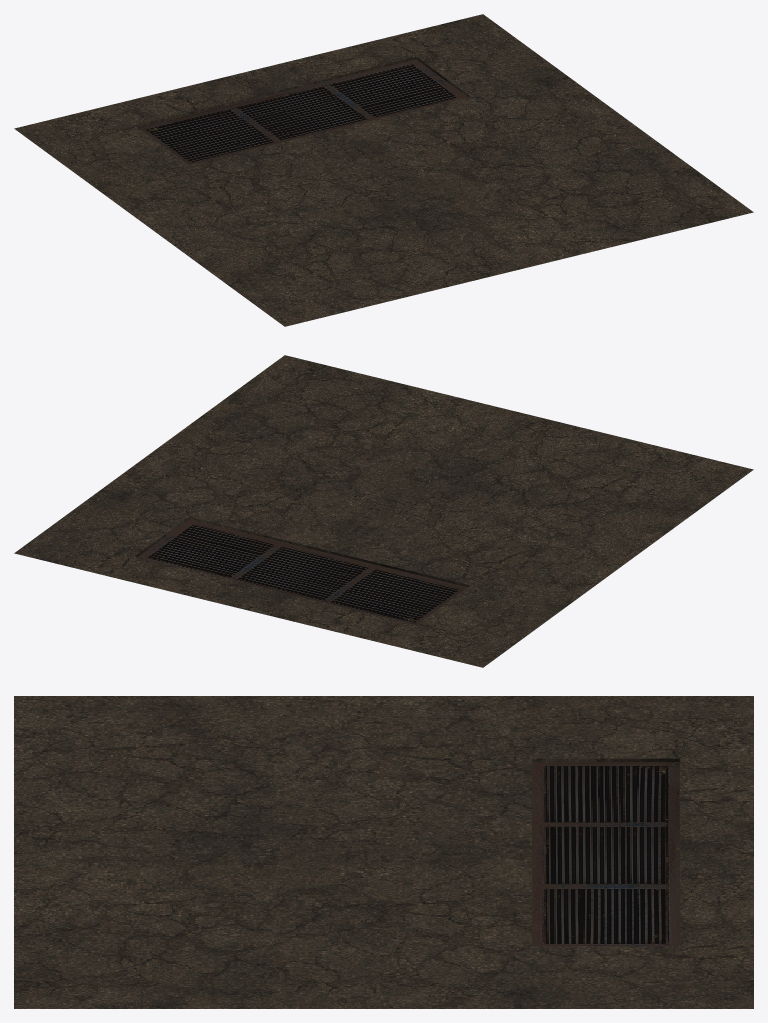
File: asphalt_hr_2.glb
The picture shows the model from 3 angles, top to bottom: view 1: azimuth 30°, elevation 25°; view 2: azimuth 150°, elevation 25°; view 3: azimuth 270°, elevation 25°; orthographic projection. The views are drawn at different scales.
Visible parts, largest first — view 1: asphalt_hr_2; view 2: asphalt_hr_2; view 3: asphalt_hr_2.
Part boxes in pixels (x1,y1,x2,y2): asphalt_hr_2: [14, 14, 753, 326]; asphalt_hr_2: [14, 355, 753, 667]; asphalt_hr_2: [14, 696, 753, 1008].
Bounding box in the file's own units: 4 × 0.02 × 4.
Materials: 2 (2 with a texture image).
